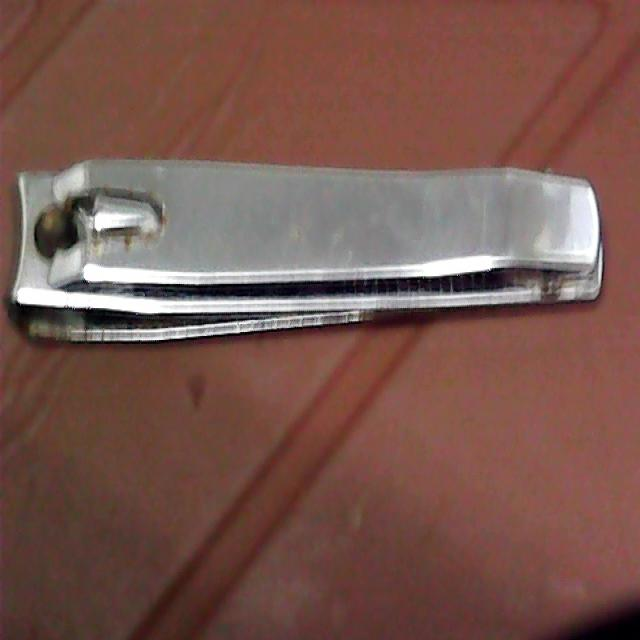Nail_clipper: (11, 159, 602, 341)
